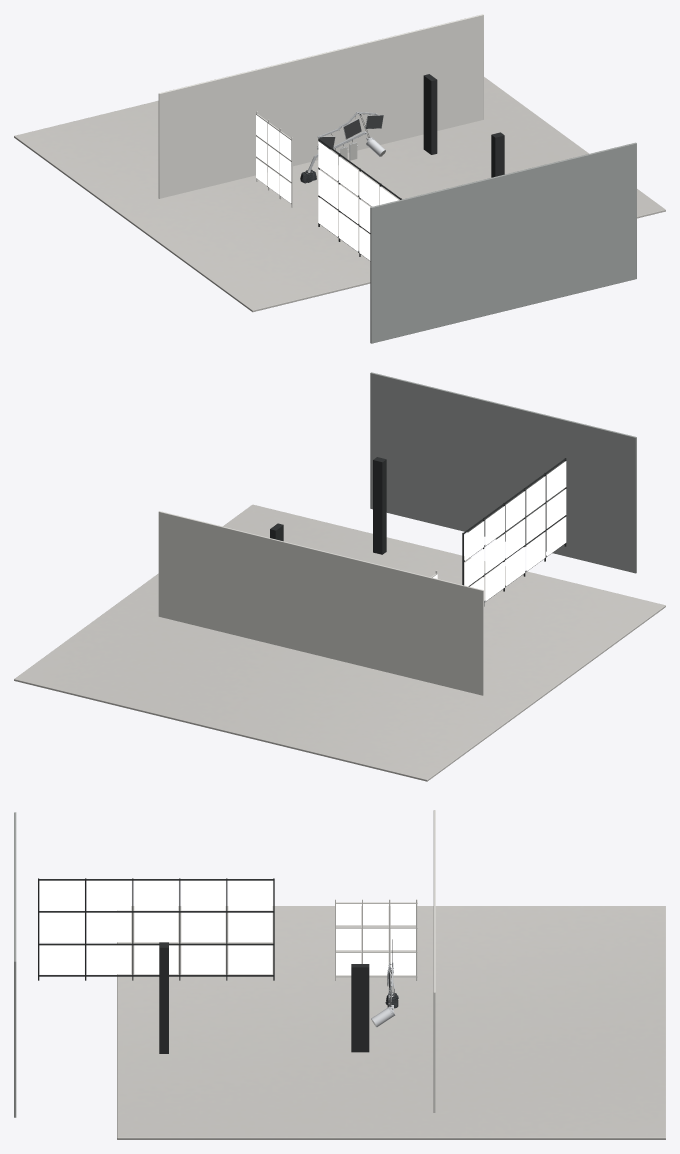
3 renders of one model, top to bottom at view 1: azimuth 30°, elevation 25°; view 2: azimuth 150°, elevation 25°; view 3: azimuth 270°, elevation 25°, orthographic. The views are drawn at different scales.
Parts seen in each view (by area): view 1: limestone_floor, front_plaster_return, rear_plaster_wall, dark_reflection_flag, front_architectural_column, front_room_window_-24_12, front_room_window_-24_3, front_room_window_-24_7.5, front_room_window_-18_12, front_room_window_-18_7.5, front_room_window_-18_3, front_room_window_-30_12; view 2: limestone_floor, rear_plaster_wall, front_plaster_return, front_architectural_column; view 3: limestone_floor, dark_reflection_flag, front_room_window_-18_12, front_room_window_-18_7.5, front_room_window_-24_12, front_room_window_-24_7.5, front_room_window_-30_12, front_room_window_-36_12, front_room_window_-42_12, front_room_window_-30_7.5, front_room_window_-36_7.5, front_room_window_-42_7.5 (+17 smaller).
Boxes of the visible parts, x1,y1,x2,y2 form: limestone_floor: [14, 77, 665, 312]; front_plaster_return: [370, 142, 636, 343]; rear_plaster_wall: [158, 14, 483, 198]; dark_reflection_flag: [423, 74, 437, 154]; front_architectural_column: [491, 132, 504, 177]; front_room_window_-24_12: [338, 156, 358, 195]; front_room_window_-24_3: [338, 212, 358, 251]; front_room_window_-24_7.5: [338, 184, 358, 223]; front_room_window_-18_12: [318, 141, 337, 181]; front_room_window_-18_7.5: [318, 169, 337, 209]; front_room_window_-18_3: [318, 197, 337, 236]; front_room_window_-30_12: [359, 171, 378, 206]; limestone_floor: [14, 504, 665, 781]; rear_plaster_wall: [158, 511, 483, 695]; front_plaster_return: [370, 372, 636, 573]; front_architectural_column: [373, 457, 386, 554]; limestone_floor: [117, 906, 665, 1139]; dark_reflection_flag: [351, 964, 369, 1052]; front_room_window_-18_12: [228, 880, 272, 910]; front_room_window_-18_7.5: [228, 912, 272, 942]; front_room_window_-24_12: [181, 880, 225, 910]; front_room_window_-24_7.5: [181, 912, 225, 942]; front_room_window_-30_12: [134, 880, 178, 910]; front_room_window_-36_12: [87, 880, 131, 910]; front_room_window_-42_12: [40, 880, 84, 910]; front_room_window_-30_7.5: [134, 912, 178, 942]; front_room_window_-36_7.5: [87, 912, 131, 942]; front_room_window_-42_7.5: [40, 912, 84, 942].
Bounding box in the file's own units: 70 × 22 × 83.15.
Materials: 12 (2 with a texture image).
